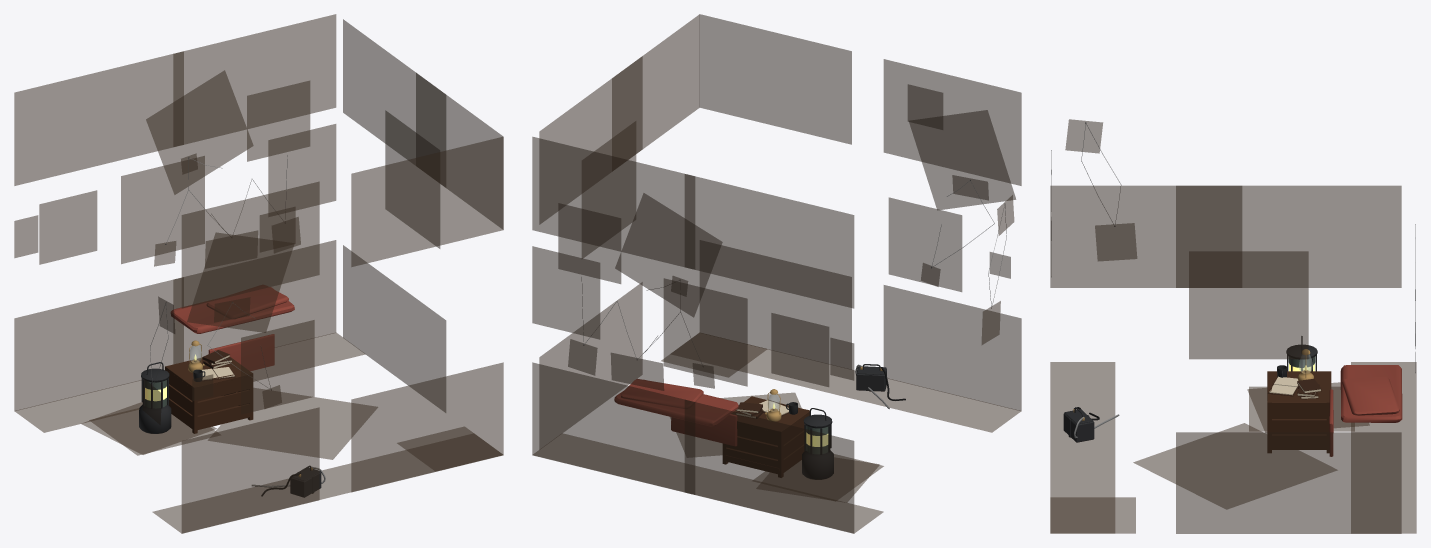
The model's file is ch3_dress_camp.glb.
3 views of the same model, side by side, from view 1: azimuth 30°, elevation 25°; view 2: azimuth 150°, elevation 25°; view 3: azimuth 270°, elevation 25° (orthographic). The views are drawn at different scales.
Visible parts, largest first — view 1: ch3_dress_camp; view 2: ch3_dress_camp; view 3: ch3_dress_camp.
Boxes of the visible parts, bbox=[...] form: ch3_dress_camp: bbox=[14, 14, 503, 533]; ch3_dress_camp: bbox=[532, 14, 1021, 533]; ch3_dress_camp: bbox=[1050, 119, 1416, 533].
Size of the model in its own units: 3.06 by 2.89 by 2.76.
